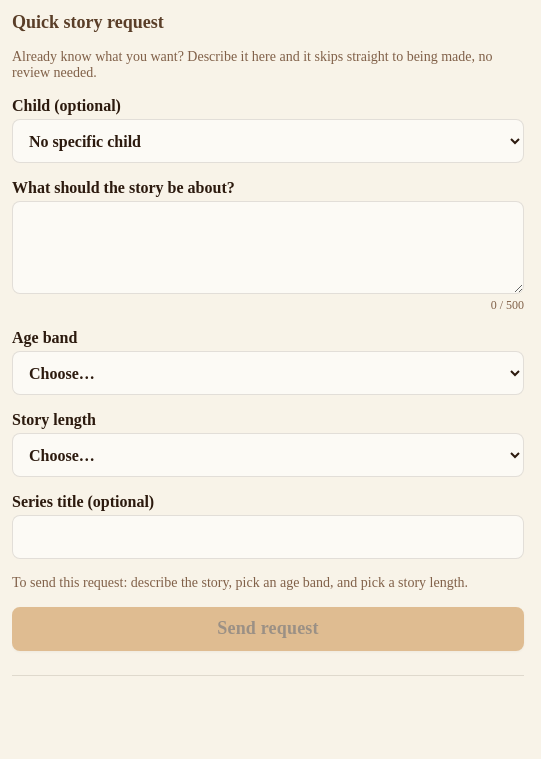
Scenario: RequestStoryForm › guardian mode › disables submit until text, band and length are set, then posts the expected body and shows the success notice
Expected: the button "Send request" is disabled, [12,607,524,651]
Select "Rae" in the dropdown labelled "Child (optional)" at point(268, 141), box [12,119,524,163]
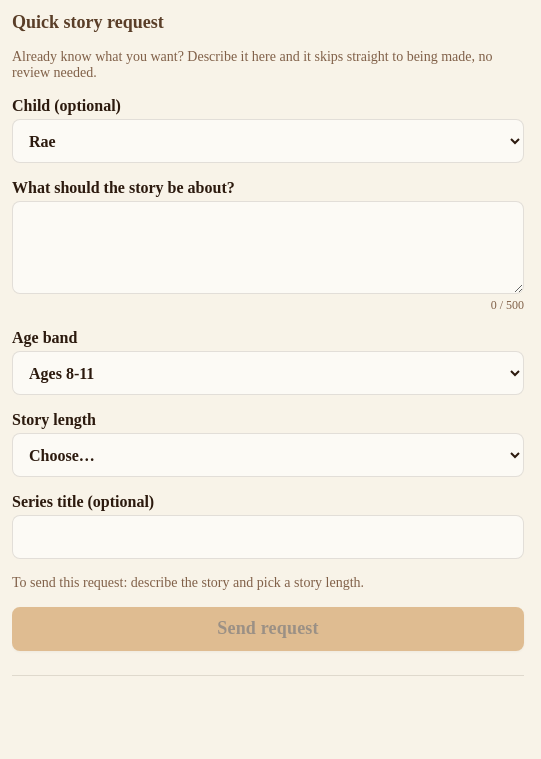
Type "A story about a brave fox" into the text box labelled "What should the story be about?".
click(268, 248); type("A story about a brave fox")  # box [12,201,524,294]
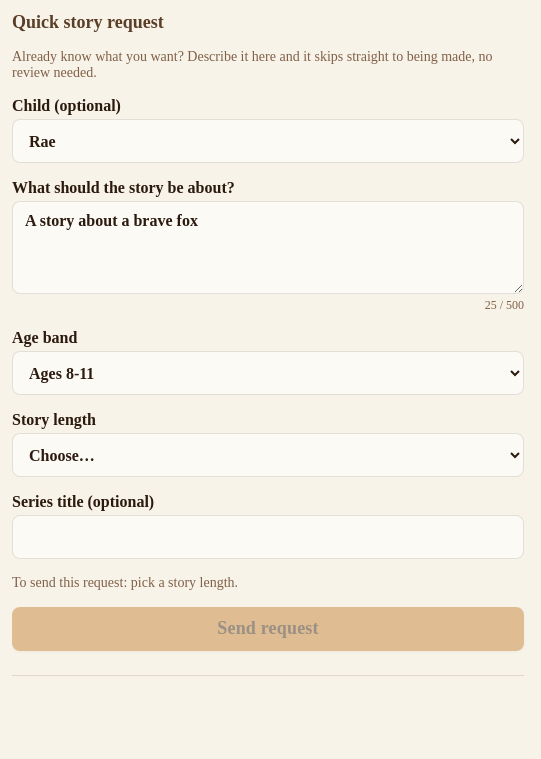
Expected: the button "Send request" is disabled, [12,607,524,651]
Select "medium" in the dropdown labelled "Story length" at point(268, 455), box [12,433,524,477]
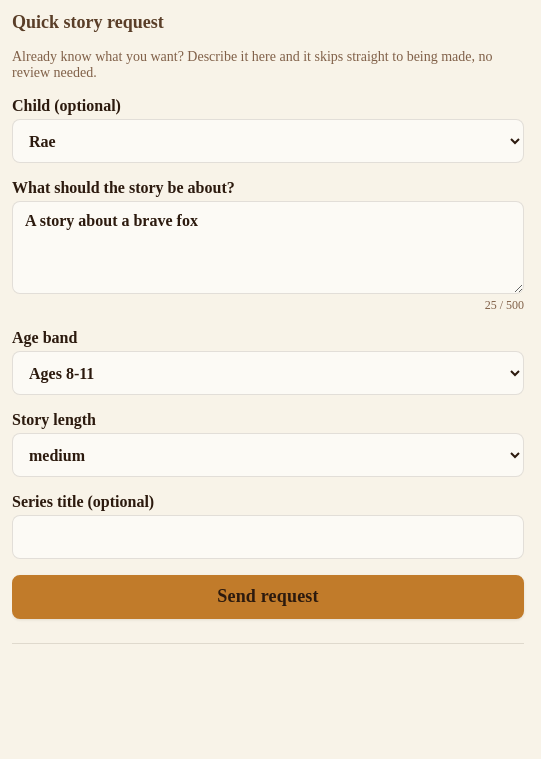
Now the button "Send request" is enabled
Click the button "Send request".
click(268, 597)  # box [12,575,524,619]
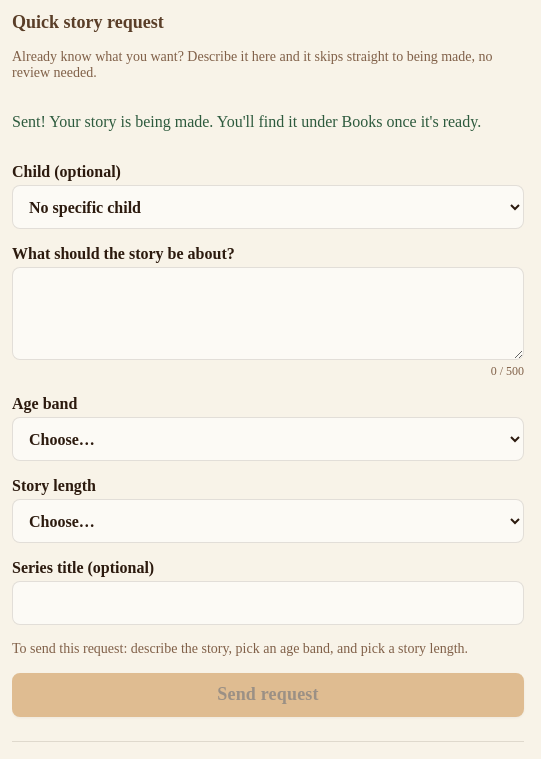
Now the message shows "You'll find it under Books", box [12,113,481,130]
